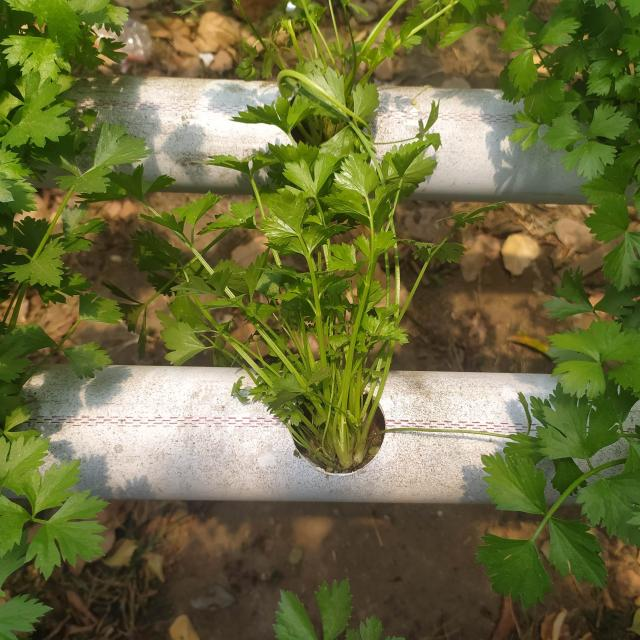Wet Waste: (157, 58, 457, 466), (484, 298, 640, 600), (498, 4, 640, 280)
